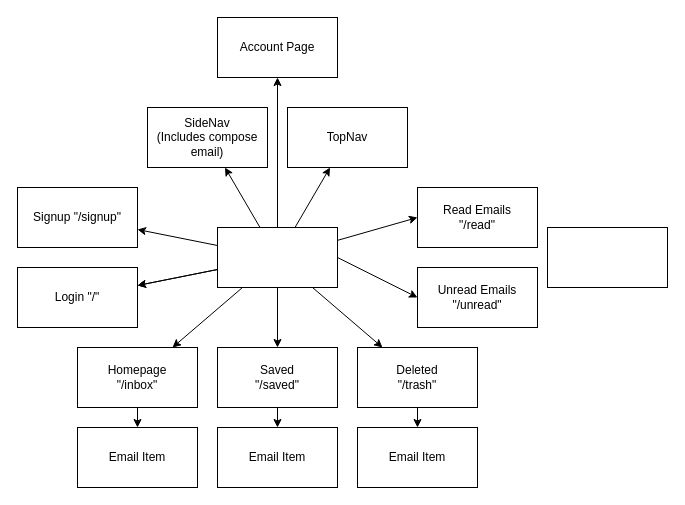
The diagram is 685 pixels wide and 505 high, and some of its shapes have lost their labels. The shapes that lost their labels are listed below. From the top down, each one's centre as x and y in pixels, then its label:
point (277, 257): APP
point (607, 257): (These will probably just be a filter)
